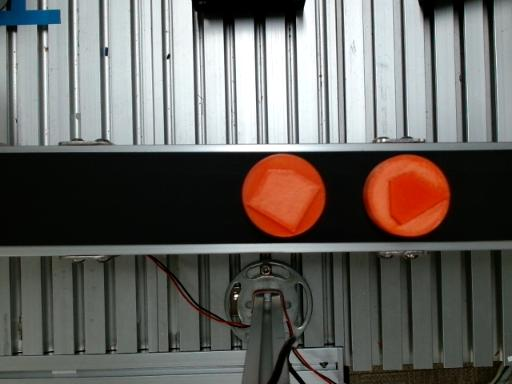Not_Square: (247, 167, 321, 234), (388, 168, 449, 227)
Orange_Waper: (363, 154, 450, 237), (242, 154, 325, 236)
